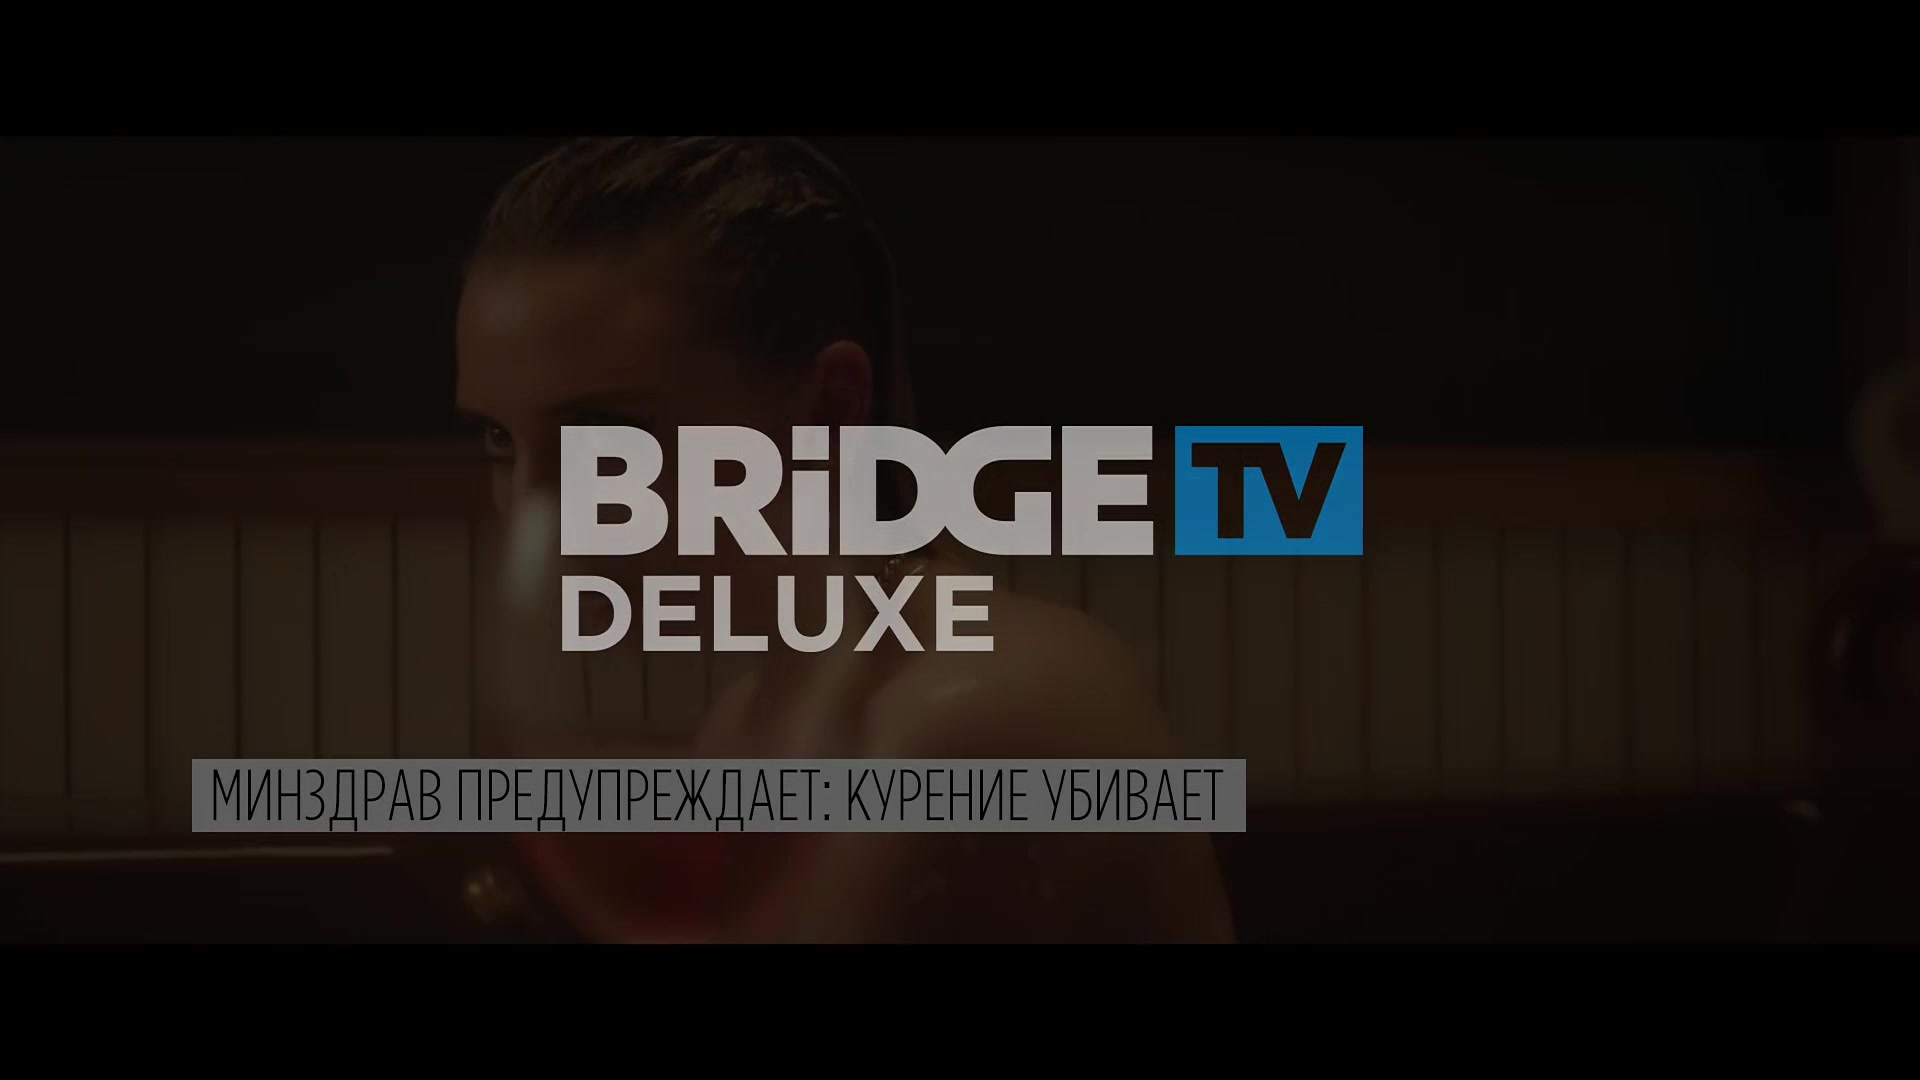Bridge_TV_Deluxe: (555, 421, 1375, 665)
